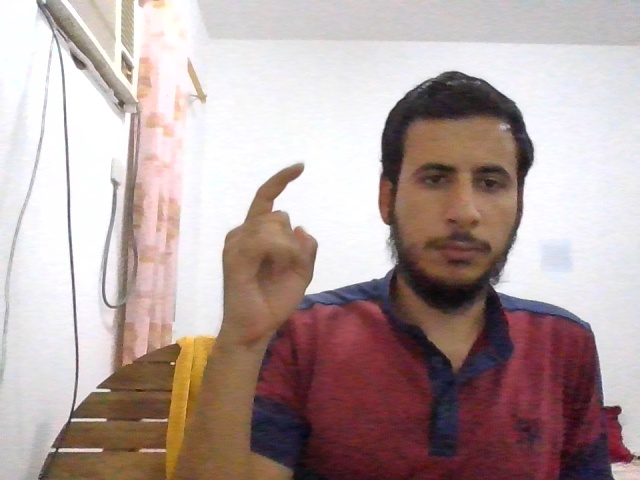One: (221, 163, 318, 346)
